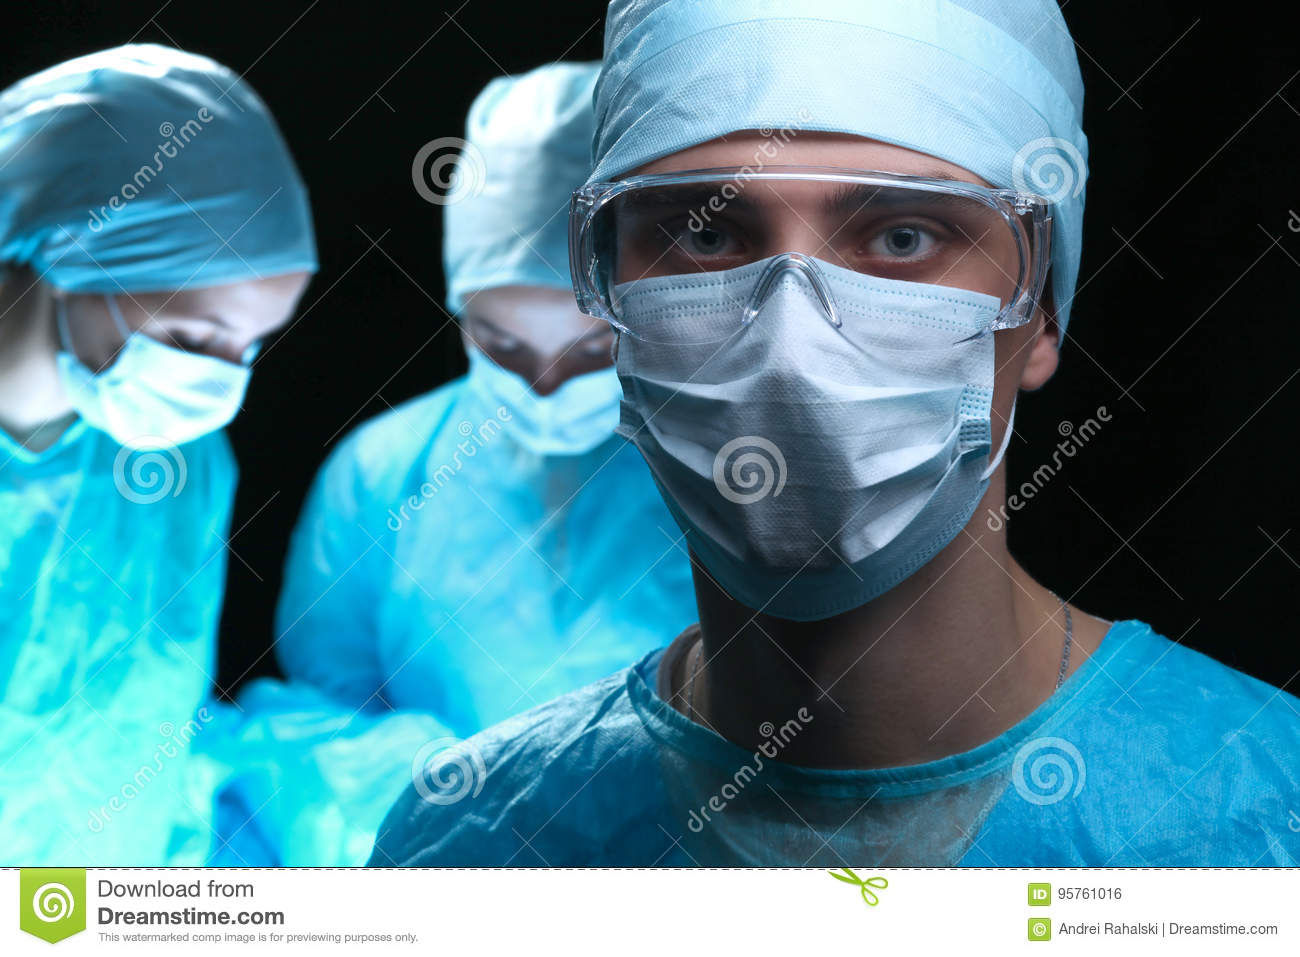mask: (601, 269, 978, 589)
